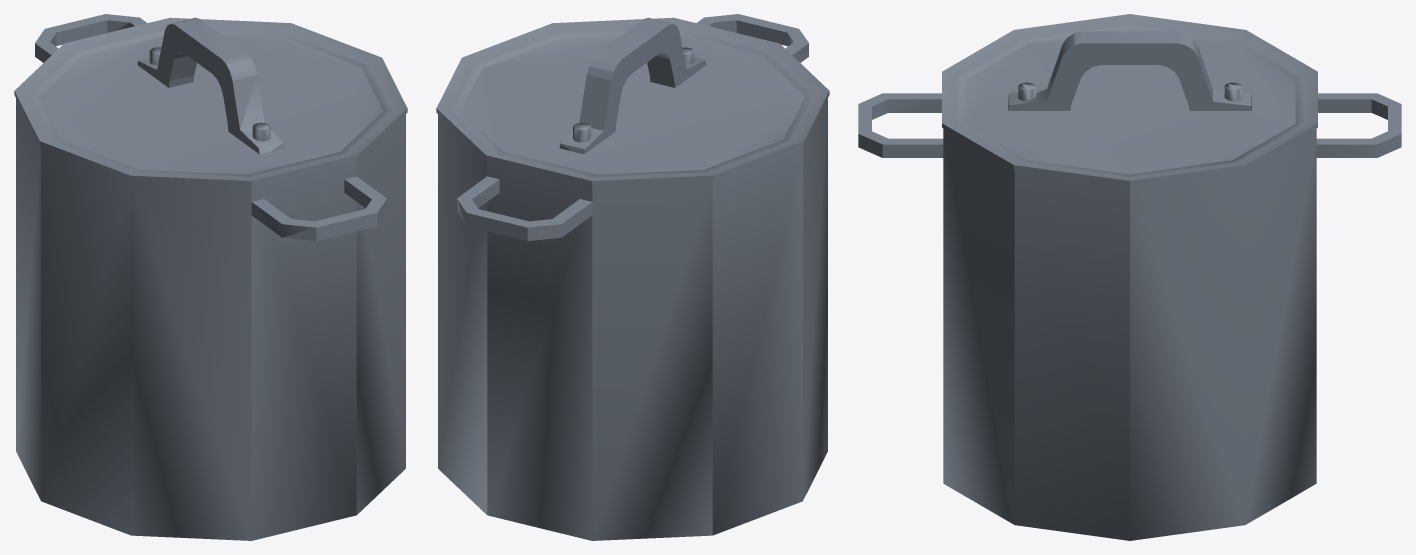
File: stock-pot.glb
The picture shows the model from 3 angles, left to right: view 1: azimuth 30°, elevation 25°; view 2: azimuth 150°, elevation 25°; view 3: azimuth 270°, elevation 25°; orthographic projection.
Visible parts, largest first — view 1: stock-pot; view 2: stock-pot; view 3: stock-pot.
Part boxes in pixels (x1,y1,x2,y2): stock-pot: (14,14,407,540); stock-pot: (436,14,829,540); stock-pot: (858,14,1401,540).
Bounding box in the file's own units: 0.2183 × 0.2564 × 0.3.
